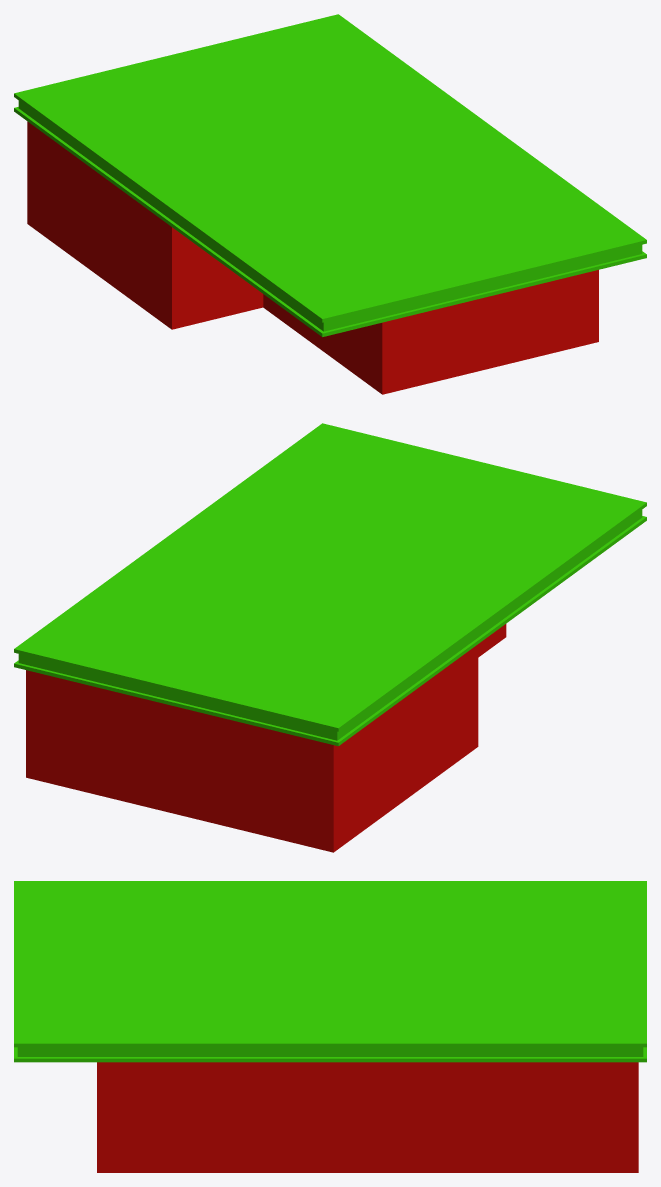
File: Building004.fbx
3 renders of one model, top to bottom at view 1: azimuth 30°, elevation 25°; view 2: azimuth 150°, elevation 25°; view 3: azimuth 270°, elevation 25°, orthographic. The views are drawn at different scales.
Visible parts, largest first — view 1: pCube66; view 2: pCube66; view 3: pCube66.
Boxes of the visible parts, <box> form: pCube66: <box>14,14,646,394</box>; pCube66: <box>14,423,646,852</box>; pCube66: <box>14,881,646,1172</box>.
Bounding box in the file's own units: 1283 × 490 × 2113.
